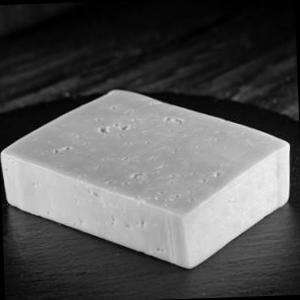cheese: (0, 56, 295, 280)
